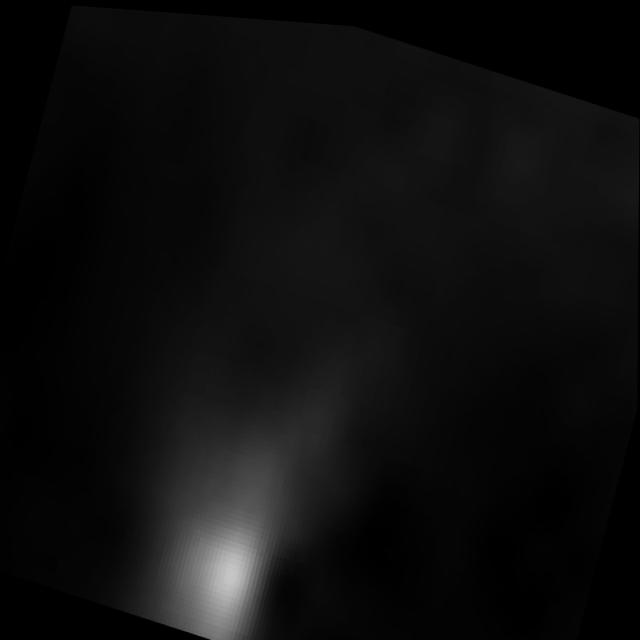person: (137, 319, 374, 640)
